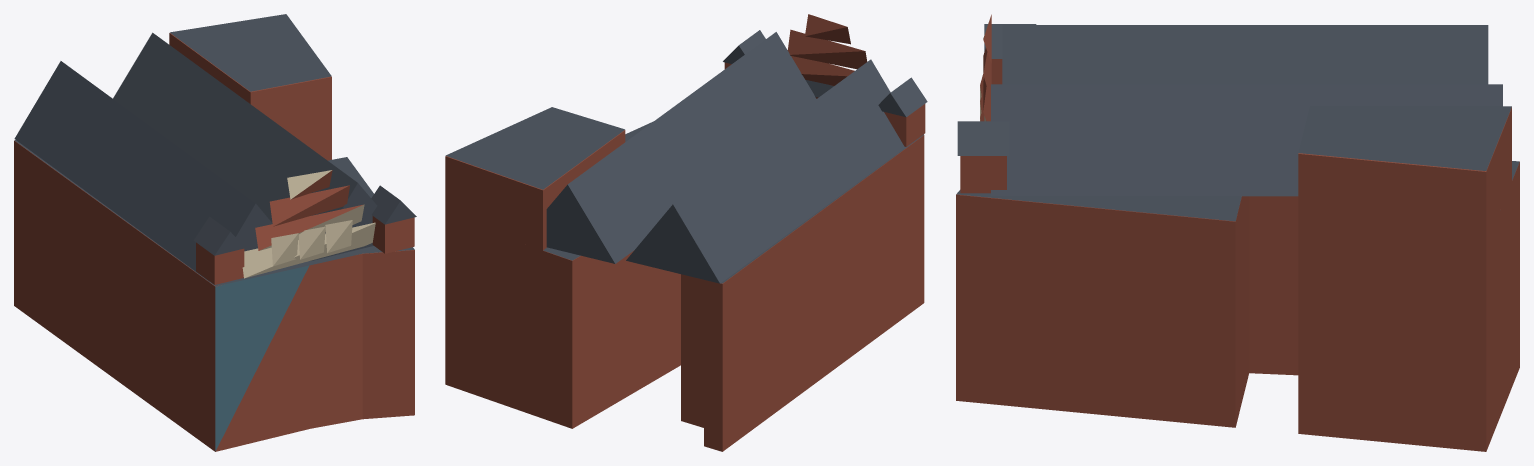
The model's file is huis-bartolotti.lod2.glb.
3 renders of one model, left to right at view 1: azimuth 30°, elevation 25°; view 2: azimuth 150°, elevation 25°; view 3: azimuth 270°, elevation 25°, orthographic. The views are drawn at different scales.
Visible parts, largest first — view 1: lod2; view 2: lod2; view 3: lod2.
Part boxes in pixels (x1,y1,x2,y2): lod2: [14, 14, 416, 451]; lod2: [445, 14, 927, 451]; lod2: [956, 14, 1519, 451].
Size of the model in its own units: 22.66 by 20.2 by 32.48.
